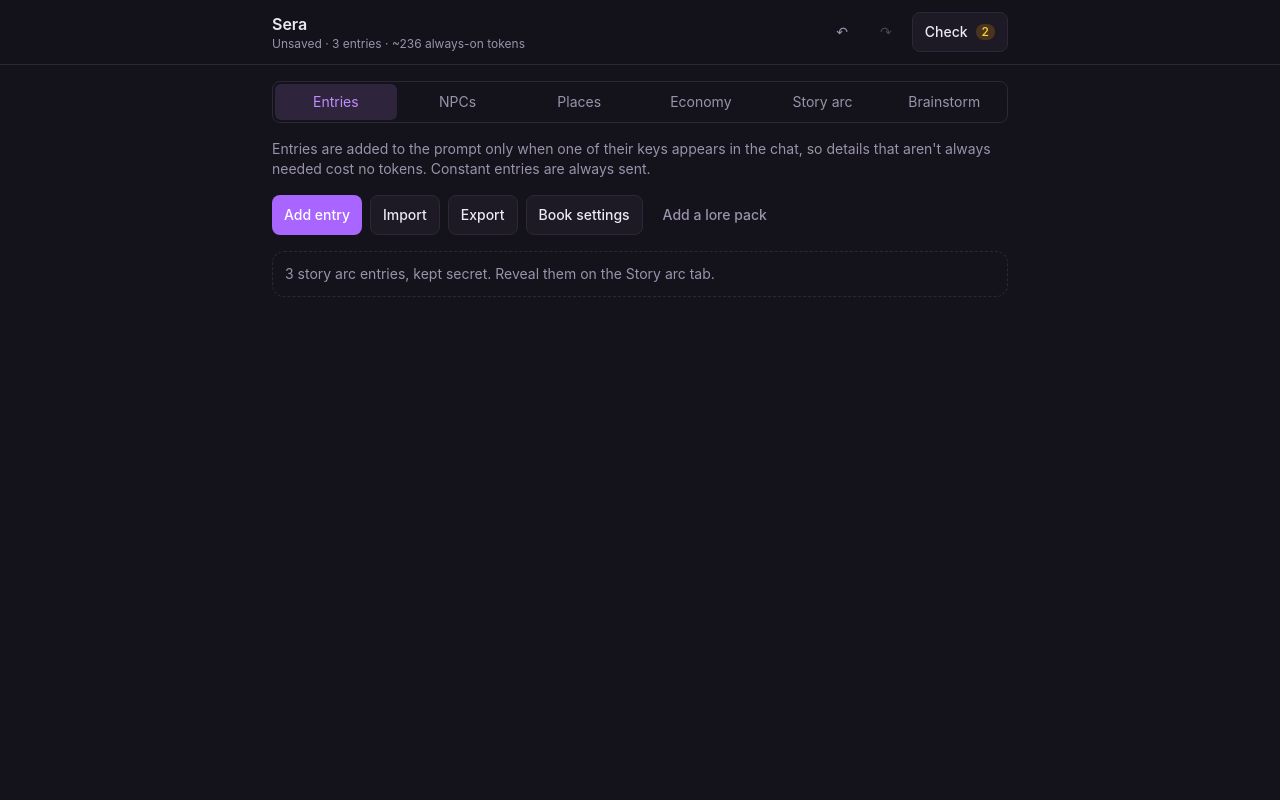
the antagonist on the NPC page › is listed from the story arc, masked while the arc is secret
This screenshot has width=1280, height=800.
Click the tab "NPCs".
click(458, 102)  # box [397,84,518,120]
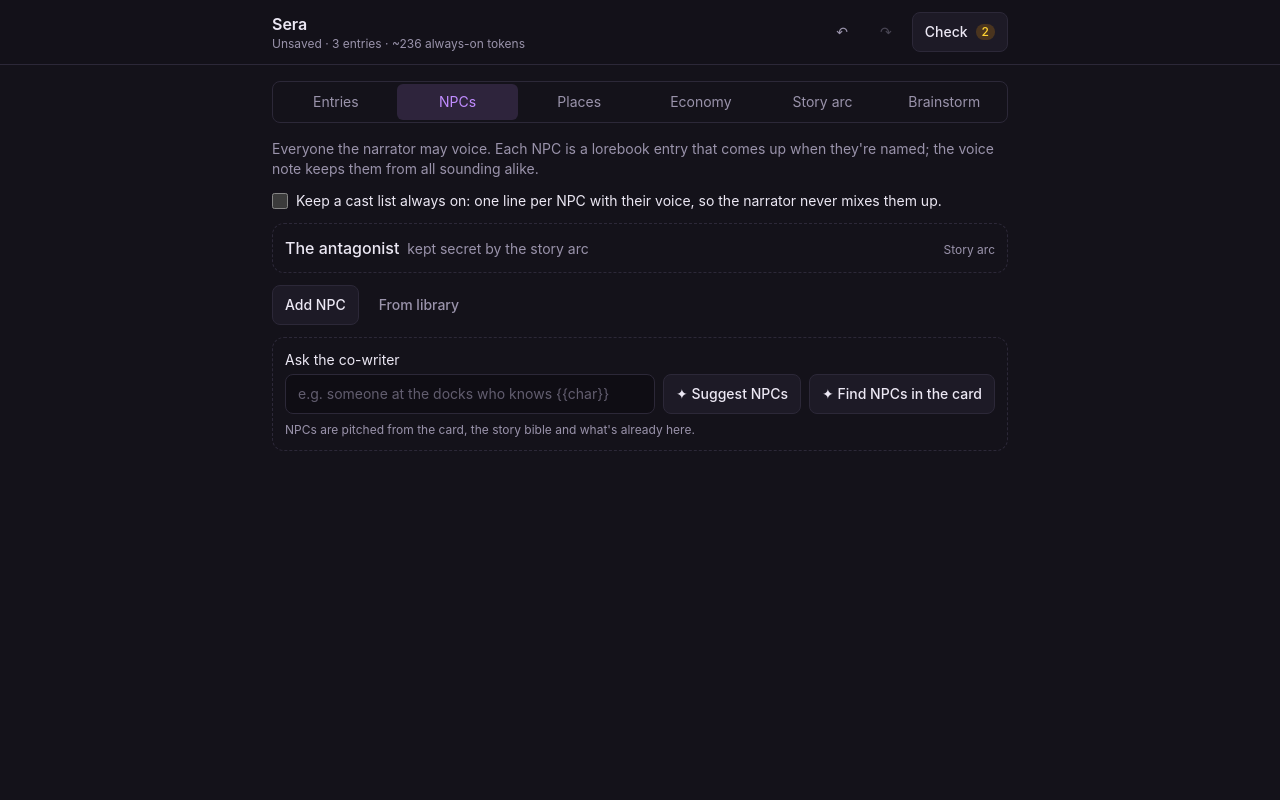
Expected: the text "Vale" is not shown
Expected: the text "kept secret by the story arc" is shown, [407,240,589,257]
Click the button "The antagonist".
click(342, 248)  # box [272,223,1008,273]
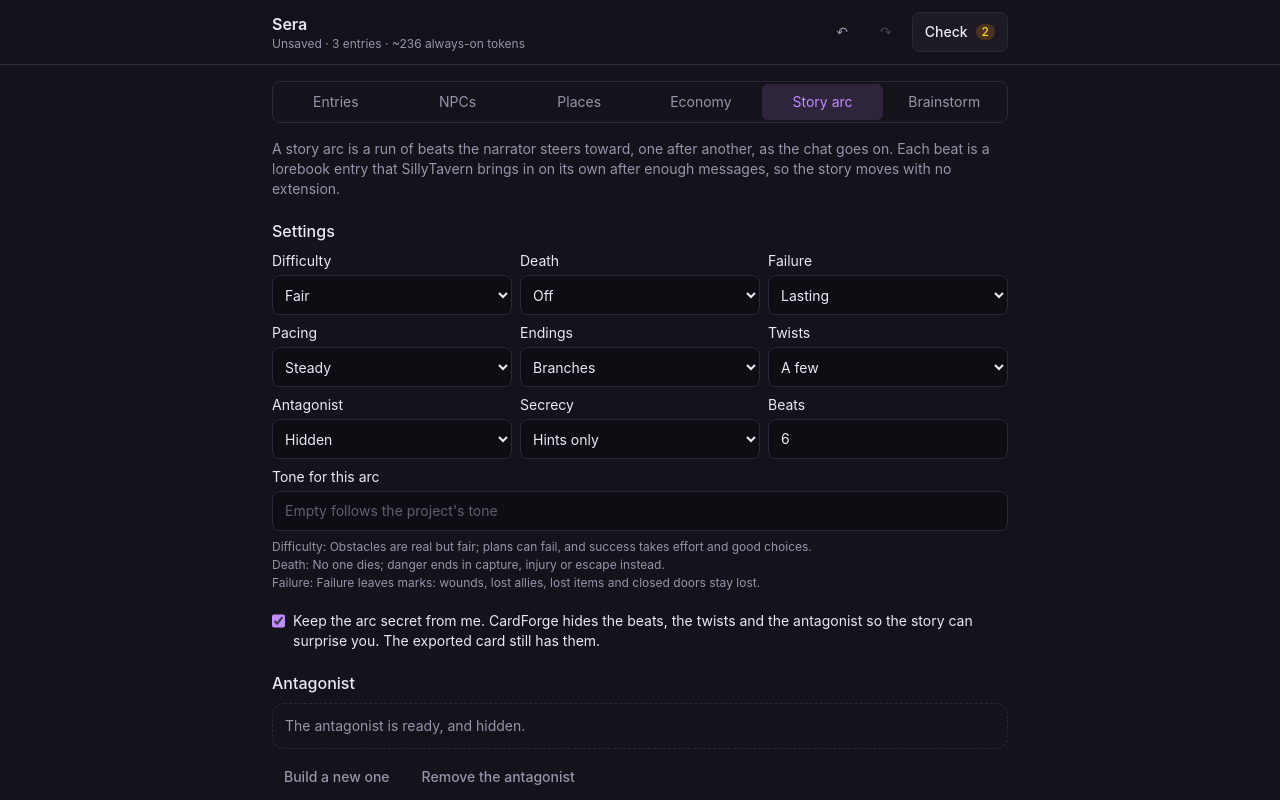
Expected: the tab "Story arc" is selected, [762,84,883,120]
Click the tab "NPCs".
click(458, 102)  # box [397,84,518,120]
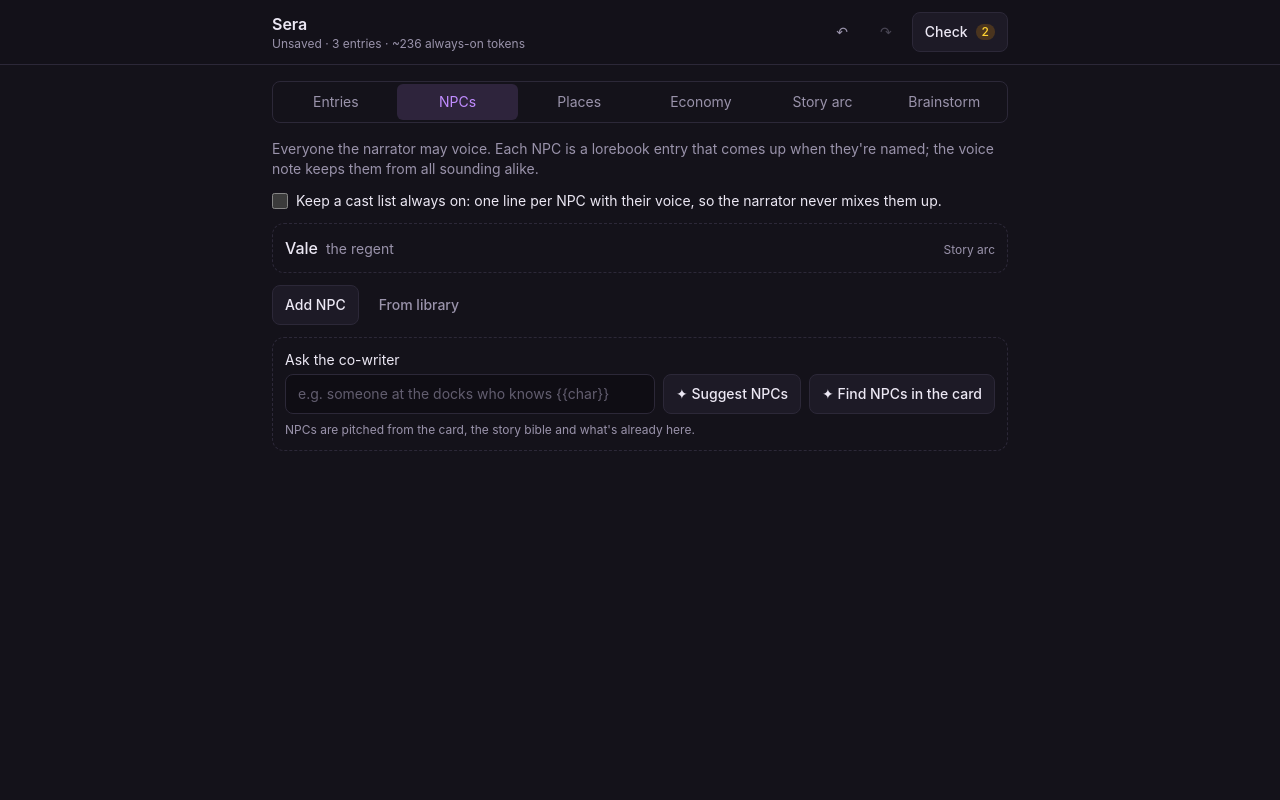
Expected: the text "Vale" is shown, [285,238,318,258]
